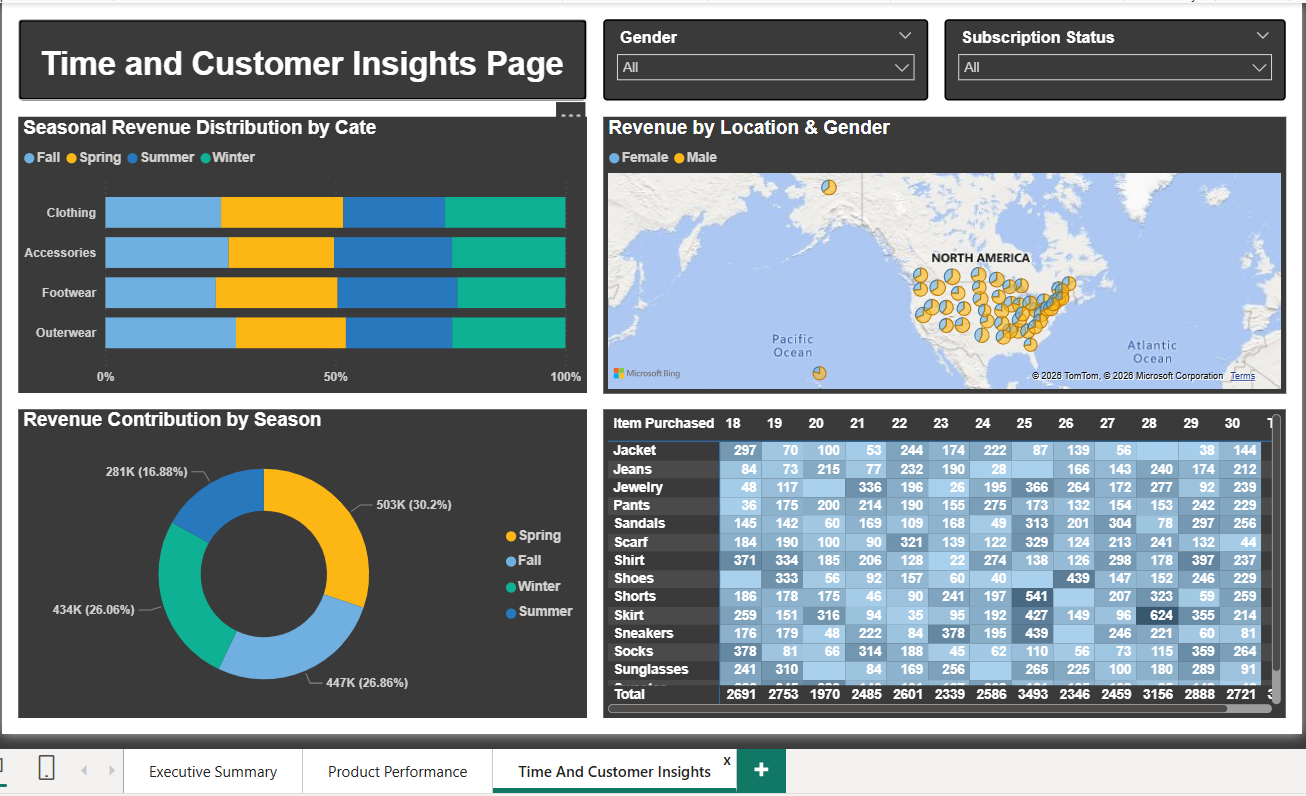

What the dashboard file says about the page in this screenshot:
{"tool":"powerbi","page":{"name":"Time And Customer Insights","canvas":[1280,720],"ordinal":2},"visuals":[{"type":"textbox","box":[16,16,560,80],"z":0},{"type":"hundredPercentStackedBarChart","title":"Seasonal Revenue Distribution by Cate","fields":{"Category":["shopping_behavior_updated.Category"],"Y":["shopping_behavior_updated.Total Amount"],"Series":["shopping_behavior_updated.Season"]},"box":[16,112,560,272],"z":1000},{"type":"donutChart","title":"Revenue Contribution by Season","fields":{"Category":["shopping_behavior_updated.Season"],"Y":["Sum(shopping_behavior_updated.Amount INR)"],"Series":["shopping_behavior_updated.Category"]},"box":[16,400,560,304],"z":2000},{"type":"map","title":"Revenue by Location & Gender","fields":{"Category":["shopping_behavior_updated.Location_US"],"Size":["Sum(shopping_behavior_updated.Purchase Amount (USD))"],"Series":["shopping_behavior_updated.Gender"]},"box":[592,112,672,272],"z":3000},{"type":"pivotTable","fields":{"Rows":["shopping_behavior_updated.Item Purchased"],"Values":["Sum(shopping_behavior_updated.Purchase Amount (USD))"],"Columns":["shopping_behavior_updated.Age"]},"box":[592,400,672,304],"z":4000},{"type":"slicer","fields":{"Values":["shopping_behavior_updated.Gender"]},"box":[592,16,320,80],"z":5000},{"type":"slicer","fields":{"Values":["shopping_behavior_updated.Subscription Status"]},"box":[928,16,336,80],"z":6000}]}

Visuals, with their boxes on the page's 1280x720 design canvas (x1, y1, x2, y2). These are canvas units, not pixel positions in the 1306x796 screenshot, which may show the page scaled, cropped or inside an application window:
textbox: Rect(16, 16, 576, 96)
"Seasonal Revenue Distribution by Cate" hundredPercentStackedBarChart: Rect(16, 112, 576, 384)
"Revenue Contribution by Season" donutChart: Rect(16, 400, 576, 704)
"Revenue by Location & Gender" map: Rect(592, 112, 1264, 384)
pivotTable - shopping_behavior_updated.Item Purchased x Sum(shopping_behavior_updated.Purchase Amount (USD)): Rect(592, 400, 1264, 704)
slicer - shopping_behavior_updated.Gender: Rect(592, 16, 912, 96)
slicer - shopping_behavior_updated.Subscription Status: Rect(928, 16, 1264, 96)
